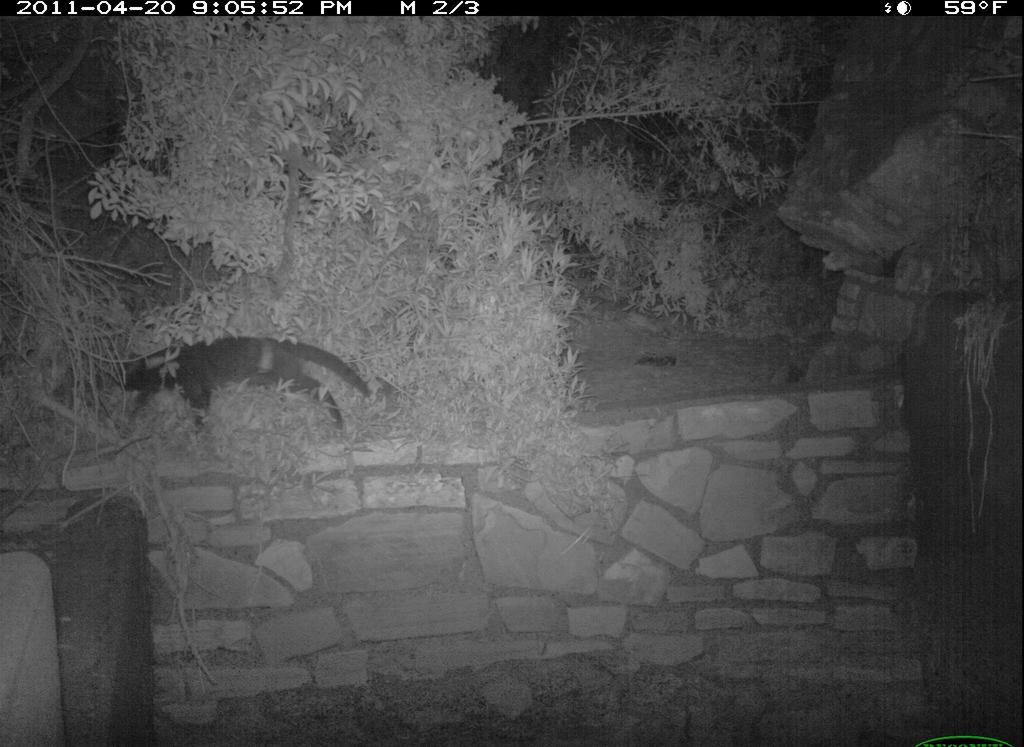cat: (91, 333, 376, 456)
